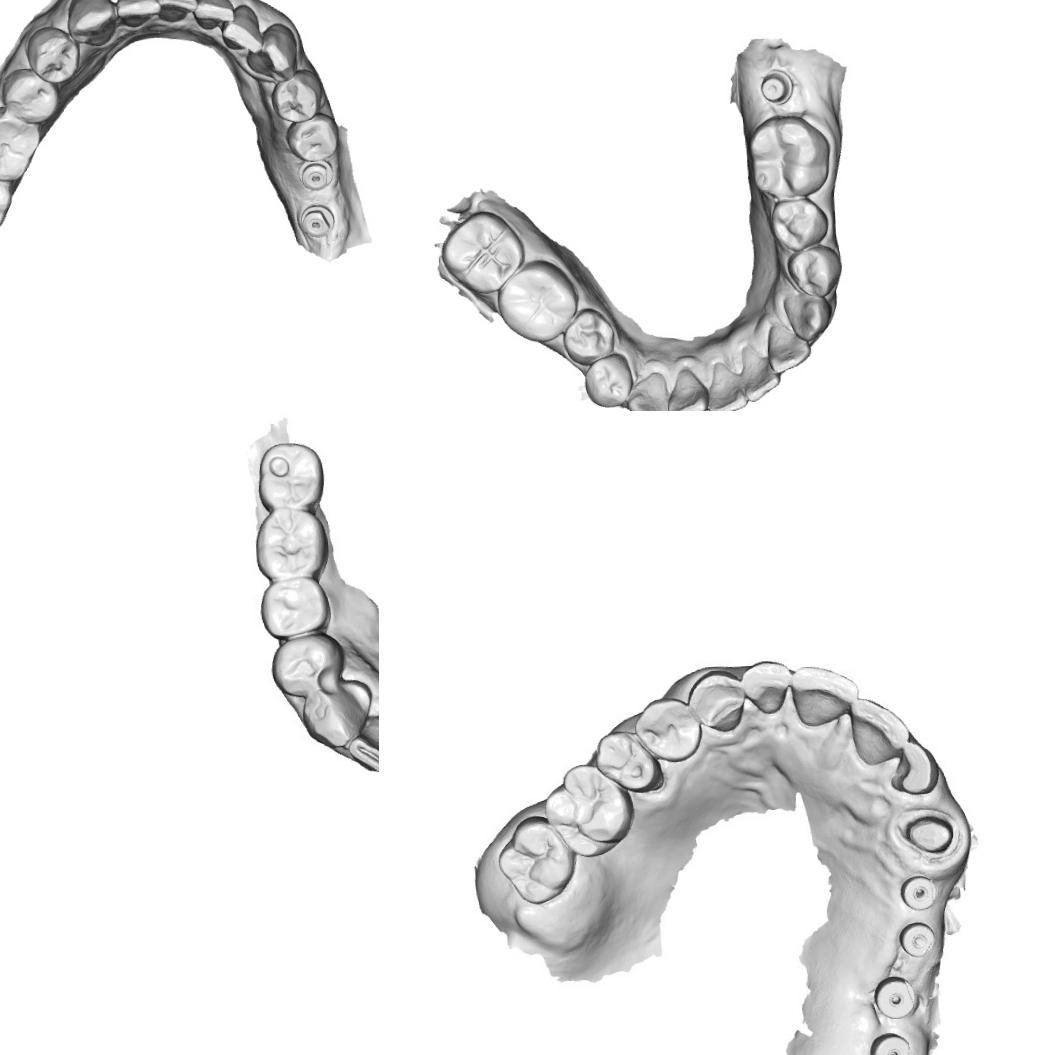canine: (300, 682, 372, 748), (686, 667, 750, 734), (243, 20, 300, 85), (780, 291, 832, 343), (63, 0, 118, 48), (623, 369, 670, 411)
crown: (898, 803, 960, 864)
implant: (870, 976, 917, 1020), (898, 918, 938, 960), (899, 873, 939, 914), (296, 200, 338, 239), (864, 1027, 916, 1055), (758, 66, 794, 106), (295, 158, 334, 192)
incisor: (790, 666, 856, 728), (847, 700, 905, 763), (218, 1, 272, 56), (887, 740, 938, 797), (742, 660, 792, 716), (737, 344, 783, 402), (764, 321, 812, 376), (704, 357, 748, 411), (663, 365, 709, 411), (348, 713, 379, 770), (191, 0, 237, 31), (112, 0, 162, 28), (154, 0, 199, 23)
molar: (540, 758, 635, 860), (438, 206, 528, 296), (492, 812, 576, 906), (744, 111, 832, 200), (494, 256, 580, 344), (253, 503, 327, 584), (250, 436, 325, 514), (0, 103, 45, 184), (0, 163, 15, 235)
premolar: (590, 724, 666, 796), (267, 630, 344, 698), (632, 695, 704, 765), (261, 576, 327, 640), (0, 64, 61, 127), (23, 22, 84, 85), (267, 65, 326, 125), (560, 305, 616, 368), (767, 196, 830, 252), (785, 242, 842, 300), (281, 109, 341, 164), (581, 350, 634, 409)
